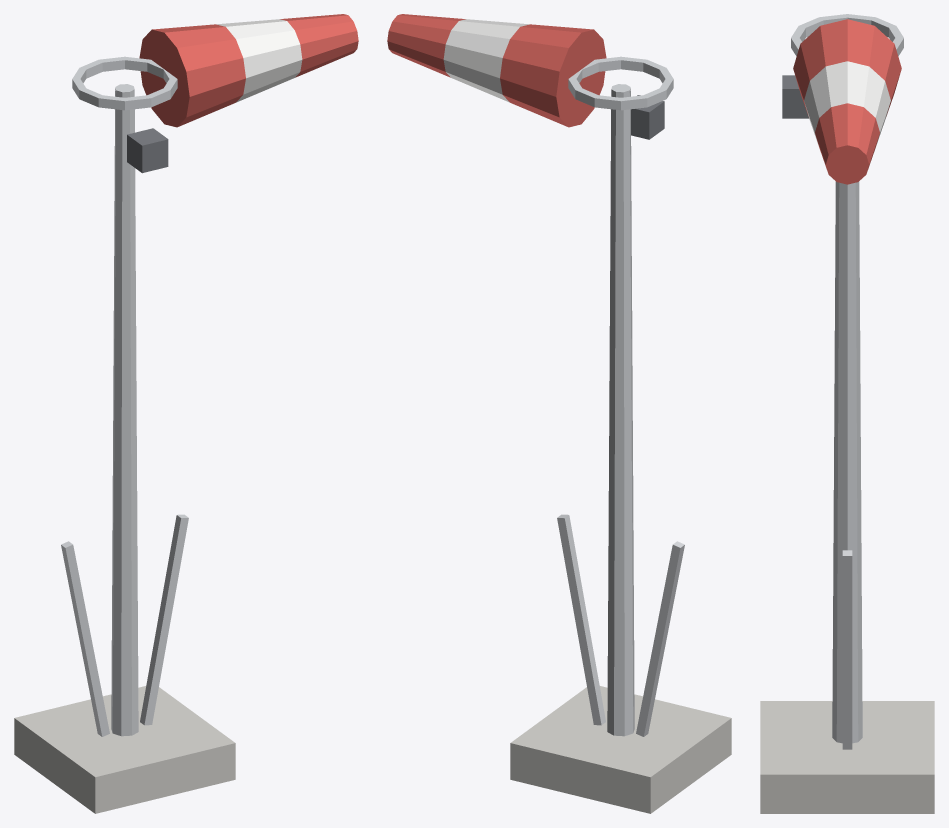
Rendered from rocket-launch-pad-and-gantry-windsock-078c584b__38203.glb.
The picture shows the model from 3 angles, left to right: view 1: azimuth 30°, elevation 25°; view 2: azimuth 150°, elevation 25°; view 3: azimuth 270°, elevation 25°; orthographic projection. The views are drawn at different scales.
Parts seen in each view (by area): view 1: windsock; view 2: windsock; view 3: windsock.
Boxes of the visible parts, left/top/right/bottom form: windsock: left=14, top=14, right=358, bottom=813; windsock: left=387, top=14, right=731, bottom=813; windsock: left=760, top=14, right=934, bottom=813.
Bounding box in the file's own units: 3.35 × 7.9 × 1.6.
